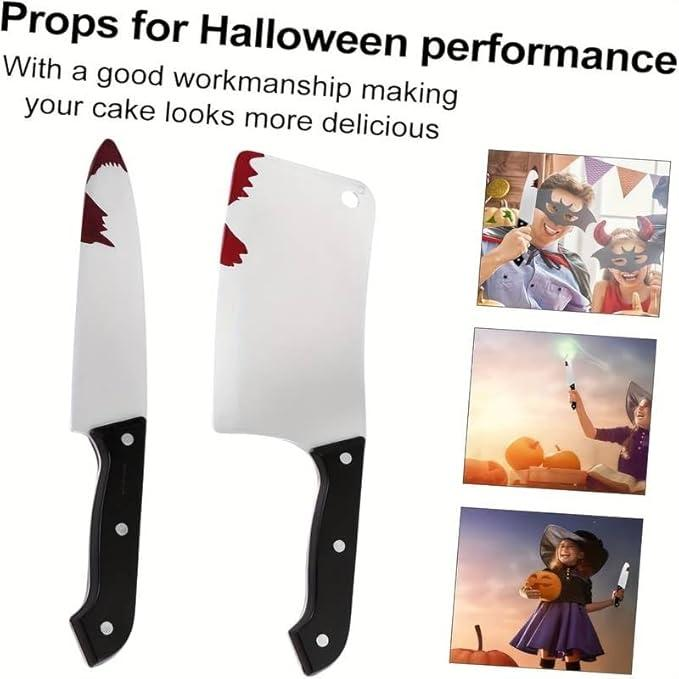Knife: (209, 146, 378, 677), (60, 130, 151, 670), (478, 176, 594, 315), (515, 534, 626, 672), (565, 386, 653, 482), (589, 226, 662, 317), (512, 162, 540, 268), (496, 225, 535, 267), (560, 352, 580, 412), (611, 561, 632, 610), (566, 386, 586, 414), (607, 587, 628, 609)
